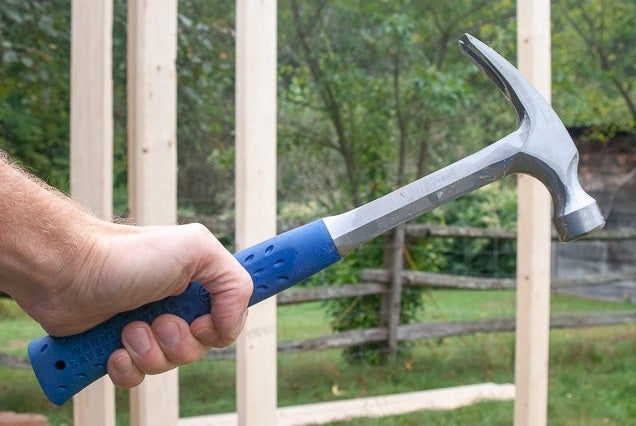hammer: (27, 33, 607, 408)
